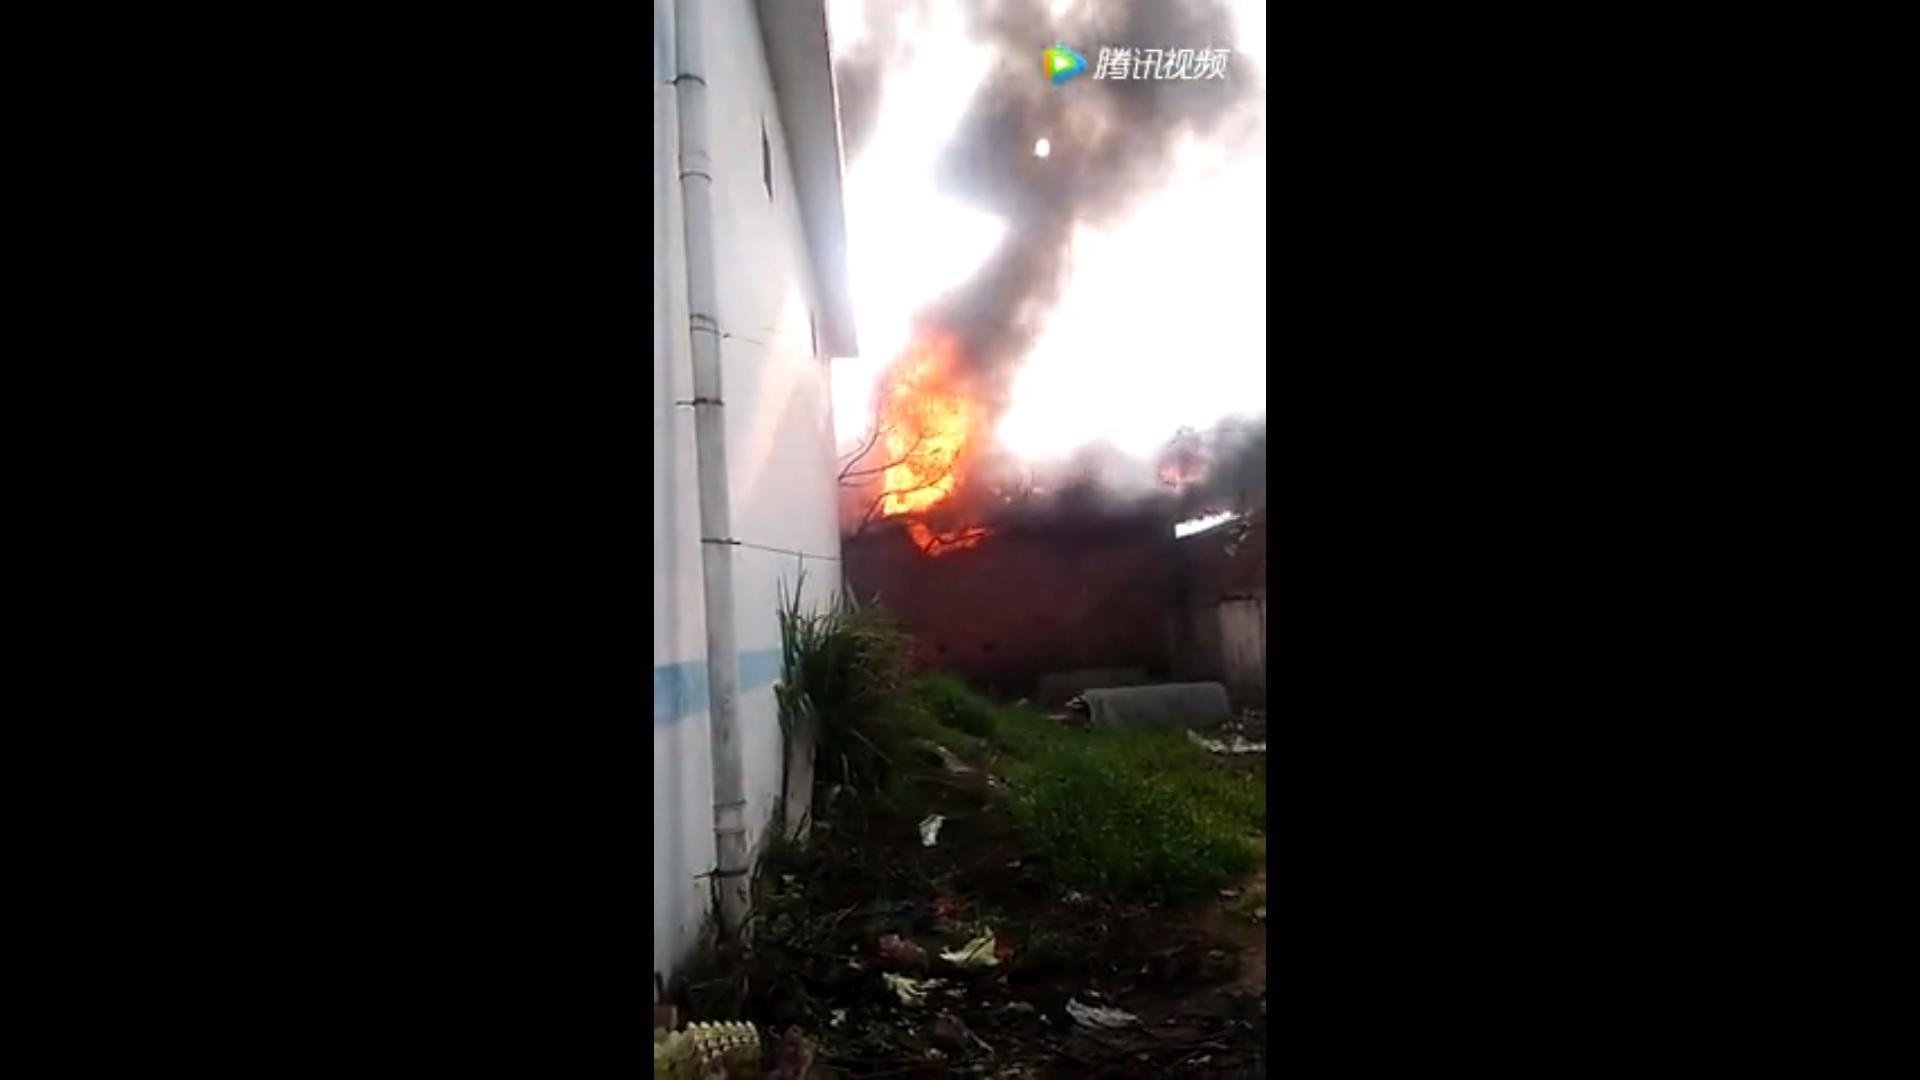fire: (872, 342, 984, 524)
